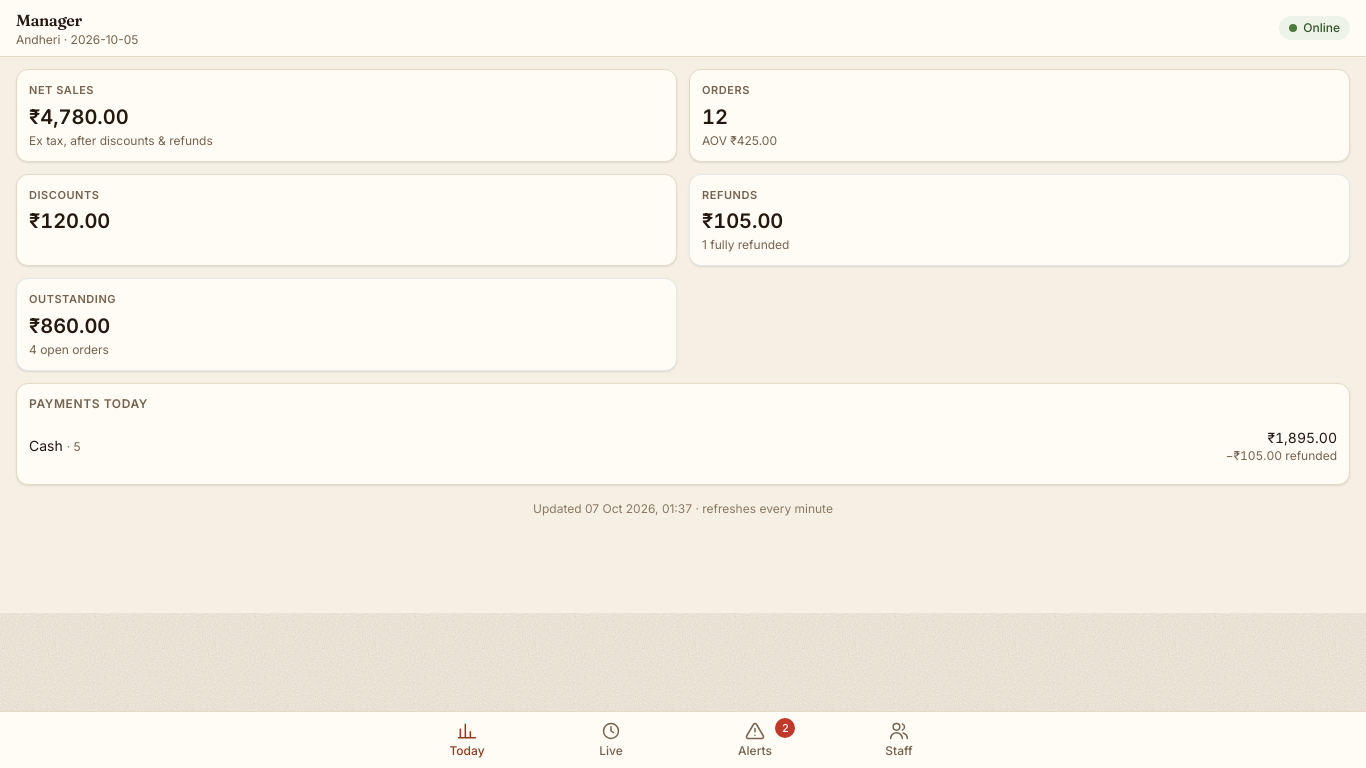
Test case: manager app › staff tab lists people as cards; you cannot act on yourself
Step 1. Click the button "Staff" → (899, 740), box [827,712,971,767]
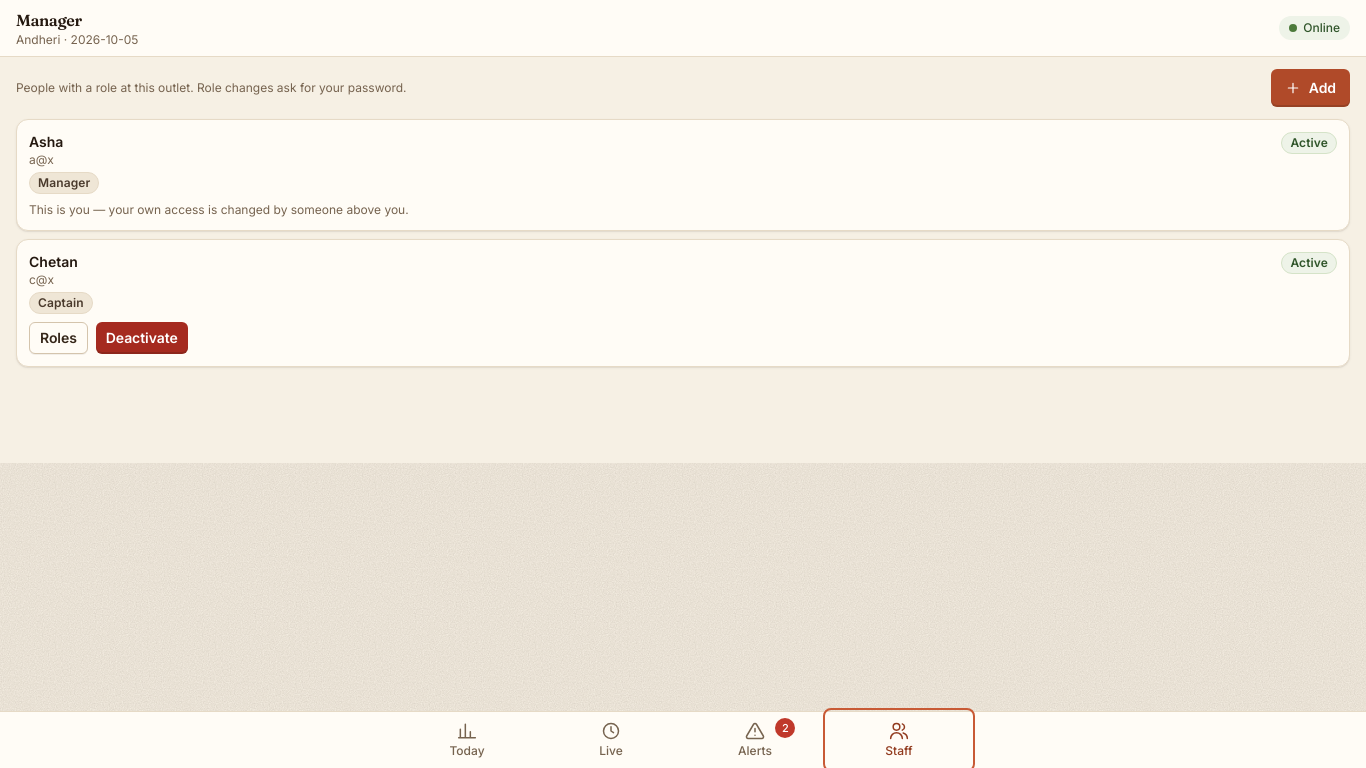
Expected: the list item "Asha" shows "This is you", [29,202,409,217]
Expected: the button "Deactivate" is shown, [96,322,188,354]
